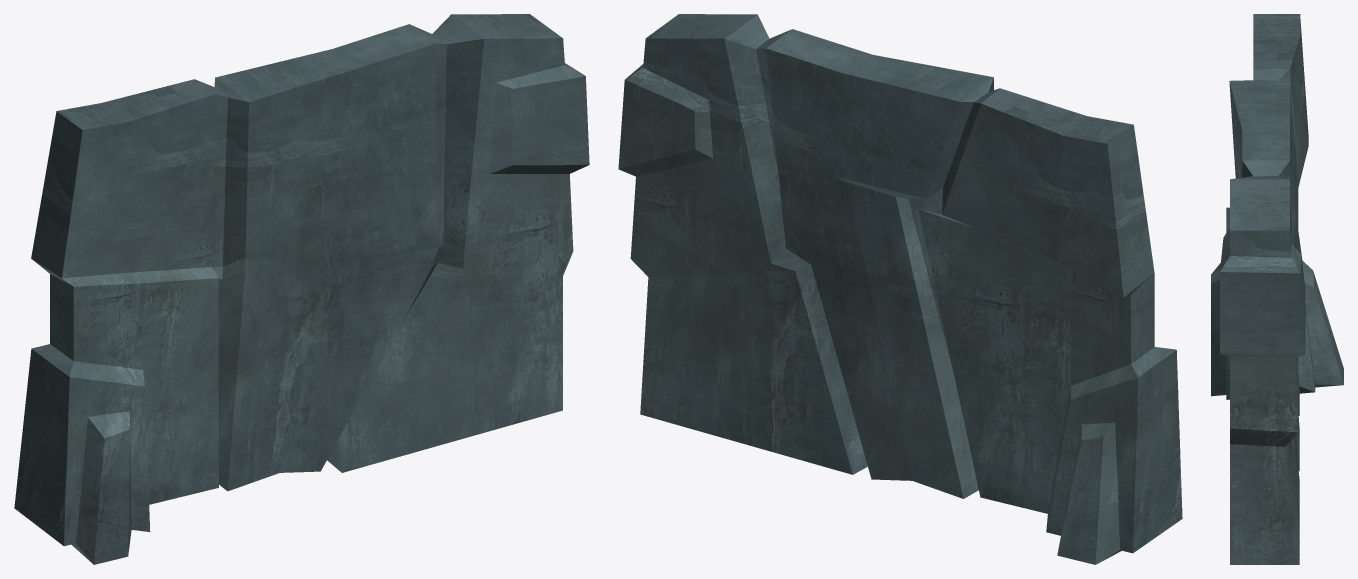
Rendered from RockWall_3.fbx.
The picture shows the model from 3 angles, left to right: view 1: azimuth 30°, elevation 25°; view 2: azimuth 150°, elevation 25°; view 3: azimuth 270°, elevation 25°; orthographic projection. The views are drawn at different scales.
Visible parts, largest first — view 1: pCube8; view 2: pCube8; view 3: pCube8.
Part boxes in pixels (<box>): pCube8: <box>14,14,589,564</box>; pCube8: <box>618,14,1182,564</box>; pCube8: <box>1211,14,1343,564</box>.
Bounding box in the file's own units: 20.02 × 15.43 × 4.91.
